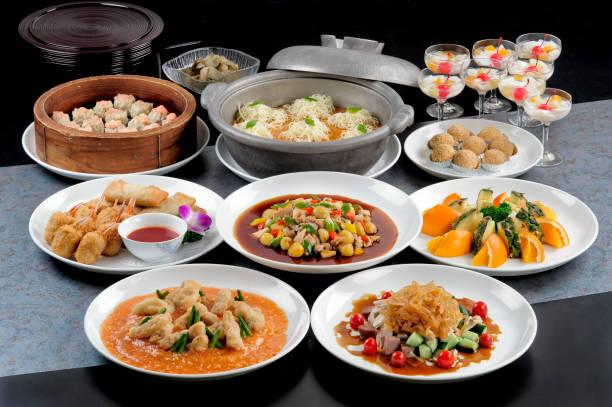Braised Crucian Carp: (314, 263, 536, 381), (82, 264, 303, 380), (203, 71, 406, 179), (218, 170, 418, 273), (404, 173, 596, 273), (27, 173, 221, 271), (33, 75, 194, 173), (402, 118, 543, 179)
